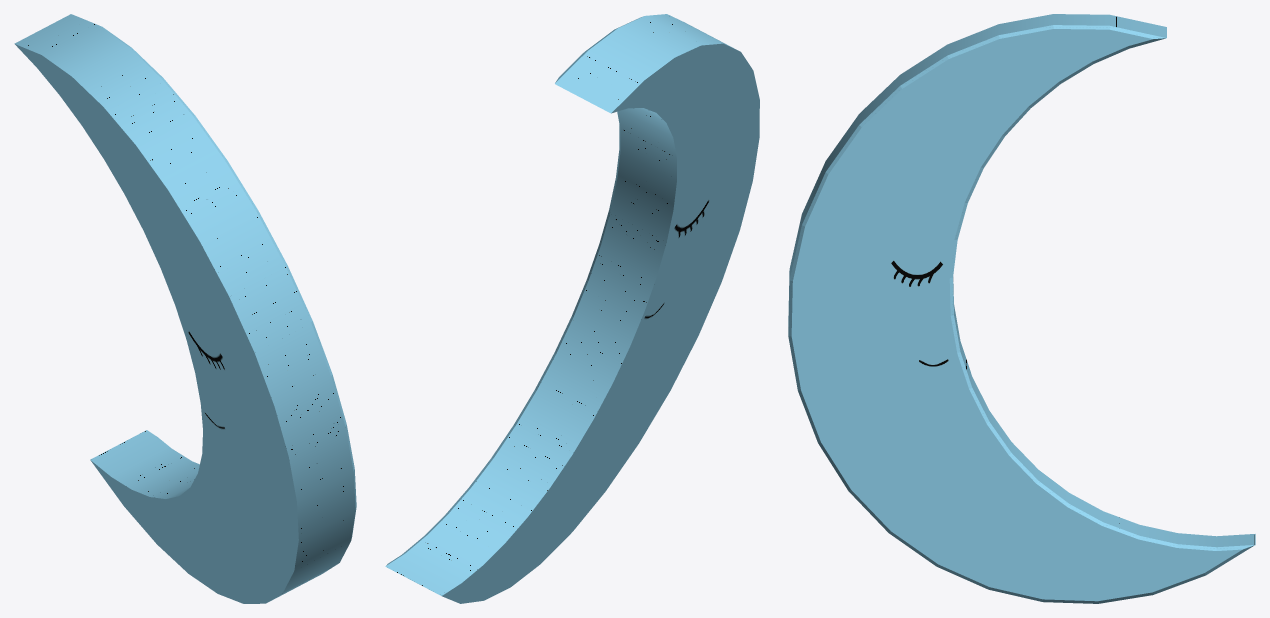
Rendered from Moon.fbx.
3 views of the same model, side by side, from view 1: azimuth 30°, elevation 25°; view 2: azimuth 150°, elevation 25°; view 3: azimuth 270°, elevation 25° (orthographic). The views are drawn at different scales.
Visible parts, largest first — view 1: Moon; view 2: Moon; view 3: Moon.
Boxes of the visible parts, bbox=[...] form: Moon: bbox=[14, 14, 356, 603]; Moon: bbox=[385, 14, 759, 603]; Moon: bbox=[788, 14, 1255, 603].
Size of the model in its own units: 76.2 by 206 by 165.
1 material, 1 textured.
